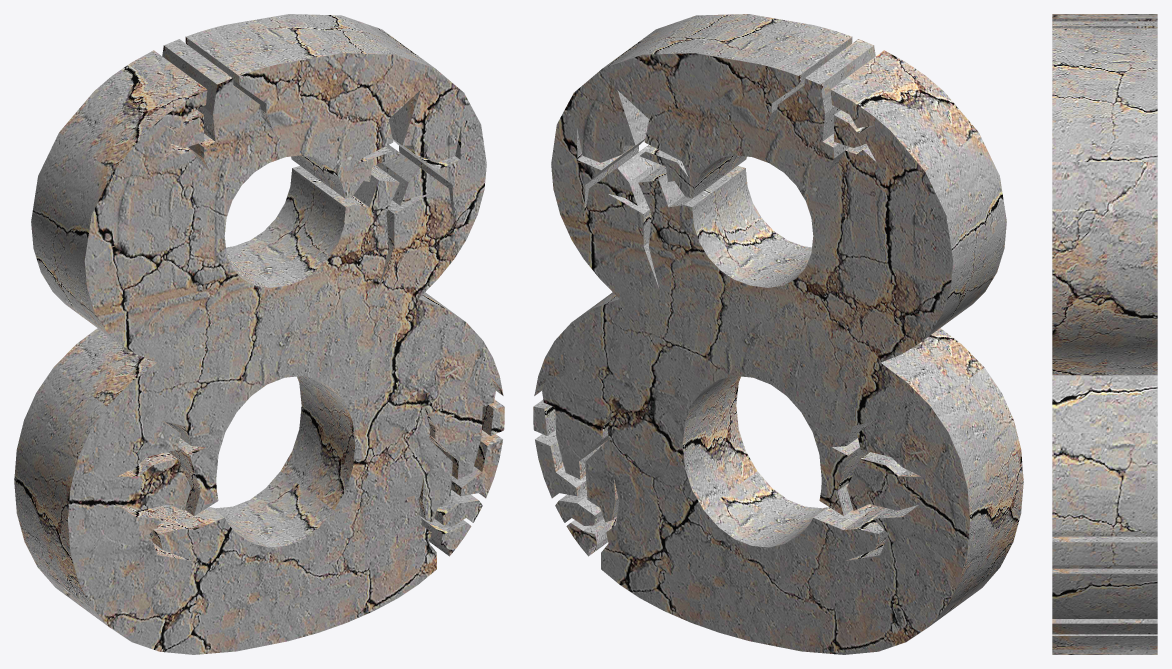
3 renders of one model, left to right at view 1: azimuth 30°, elevation 25°; view 2: azimuth 150°, elevation 25°; view 3: azimuth 270°, elevation 25°, orthographic. The views are drawn at different scales.
Parts seen in each view (by area): view 1: 8; view 2: 8; view 3: 8.
Part boxes in pixels (x1,y1,x2,y2): 8: (14, 14, 504, 654); 8: (533, 14, 1023, 654); 8: (1052, 14, 1157, 654).
Size of the model in its own units: 70.55 by 89.42 by 15.
Materials: 1 (1 with a texture image).
